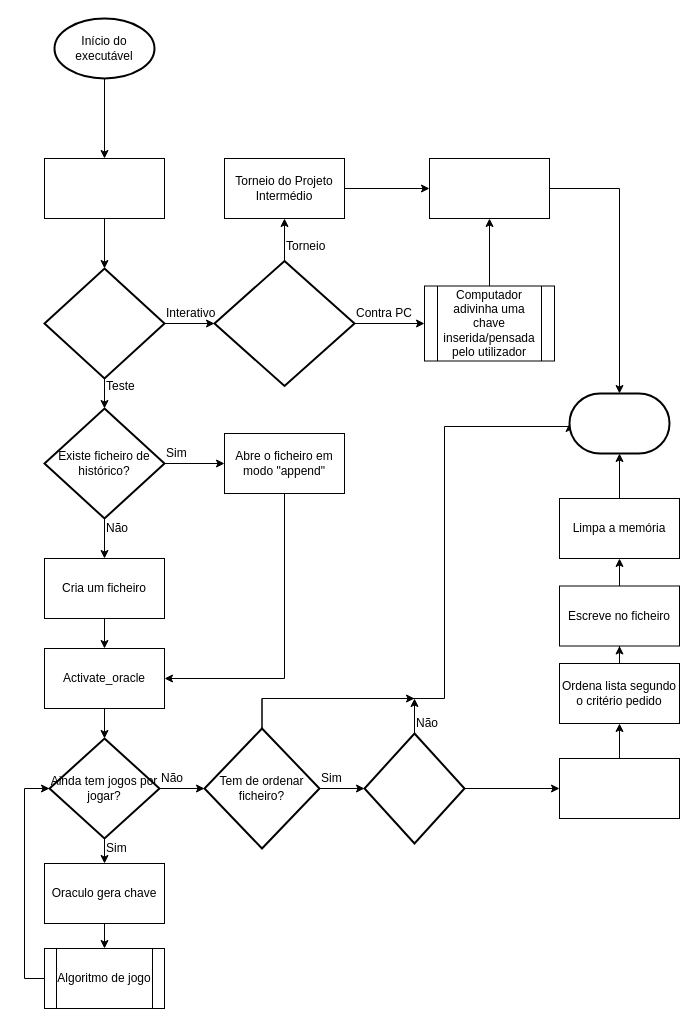
Some shapes in this 697 by 1026 pixel diagram are drawn without their labels. Each missing label, with the box of its shape:
Carrega ficheiro para a lista de listas: (558, 758, 680, 818)
Comando de ordenação válido?: (363, 732, 465, 844)
Fim do executável: (568, 392, 670, 454)
Grava as estatísticas/registo num novo ficheiro: (428, 158, 550, 218)
Jogador vs PC ou torneio jogadores?: (213, 260, 355, 386)
Qual é o modo de jogo?: (43, 267, 165, 379)
Verifica qual é o modo de jogo segundo as flags: (44, 158, 164, 218)
